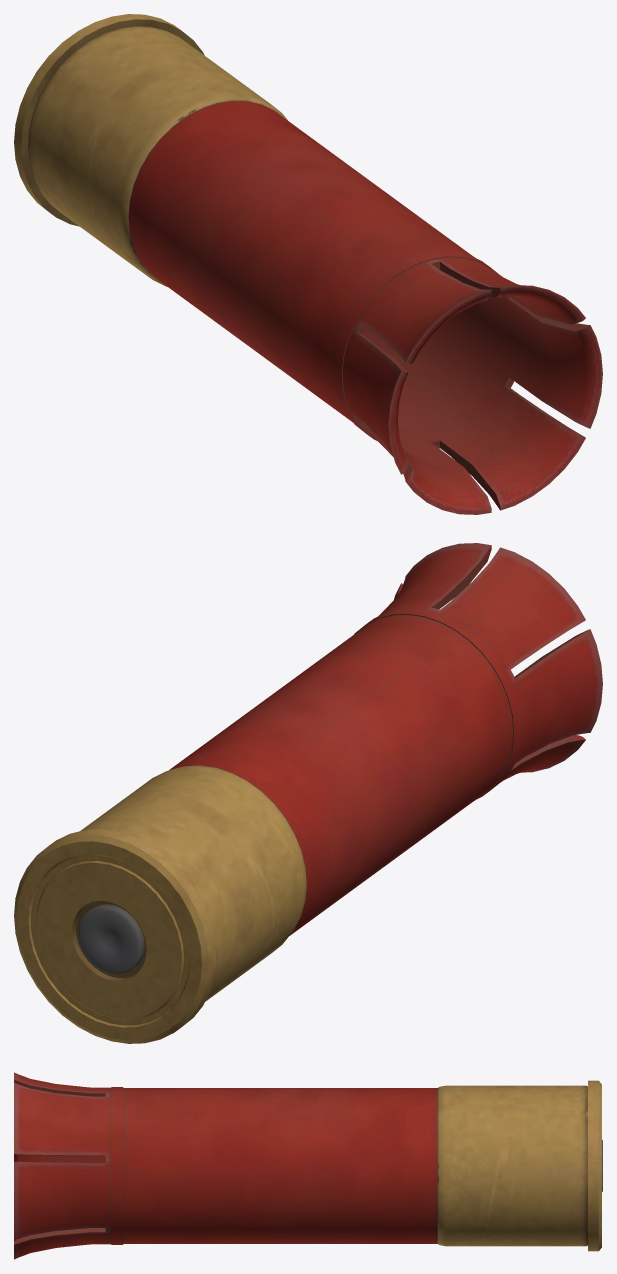
File: shell_shotgun.glb
The picture shows the model from 3 angles, top to bottom: view 1: azimuth 30°, elevation 25°; view 2: azimuth 150°, elevation 25°; view 3: azimuth 270°, elevation 25°; orthographic projection. The views are drawn at different scales.
Visible parts, largest first — view 1: mesh_body; view 2: mesh_body; view 3: mesh_body.
Part boxes in pixels (left/top/right/bottom): mesh_body: left=14, top=14, right=602, bottom=514; mesh_body: left=14, top=543, right=602, bottom=1043; mesh_body: left=14, top=1072, right=602, bottom=1259.
Bounding box in the file's own units: 0.0224 × 0.0223 × 0.0701.
Materials: 3 (3 with a texture image).
